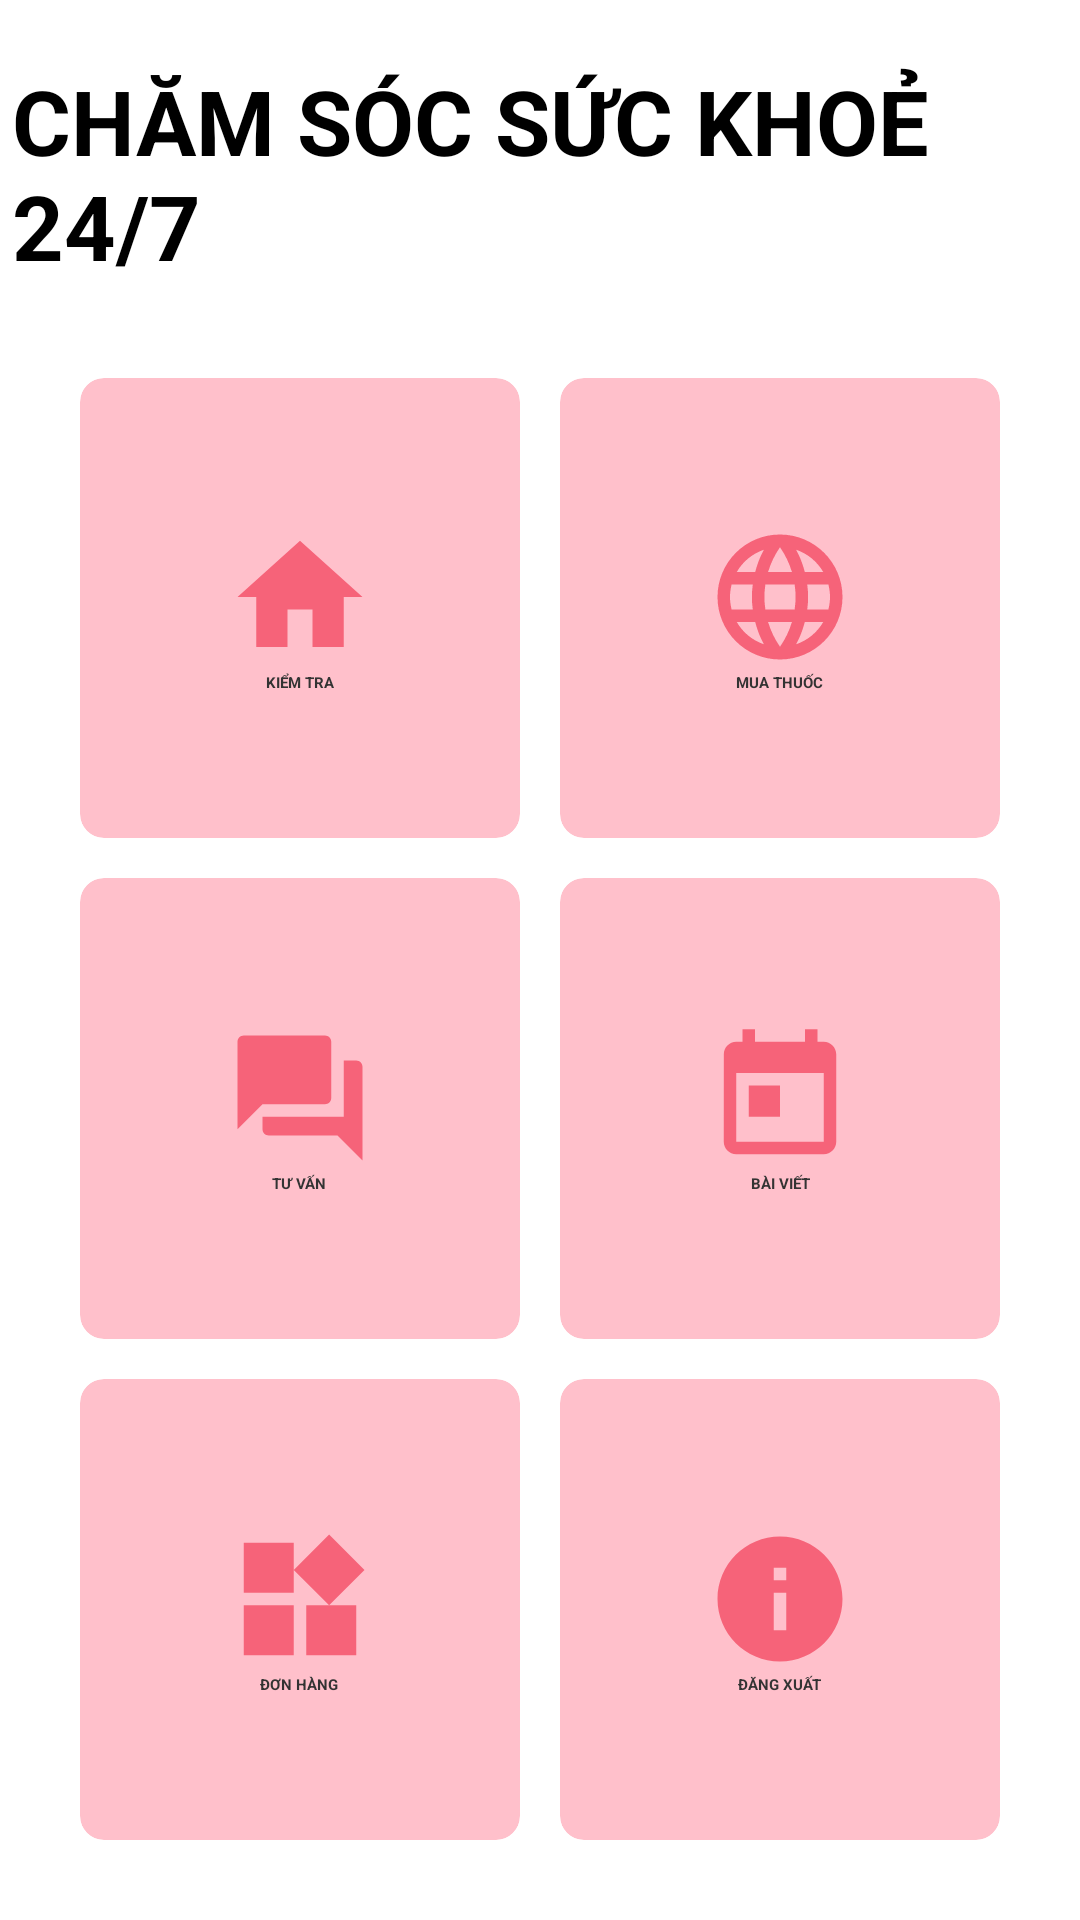

Icons on this 1080*1920 Android screen, each with the point to tap as (x=x, y=y):
calendar: (x=780, y=1091)
chat: (x=300, y=1097)
home: (x=300, y=594)
info: (x=780, y=1599)
language: (x=780, y=597)
widgets: (x=304, y=1595)
